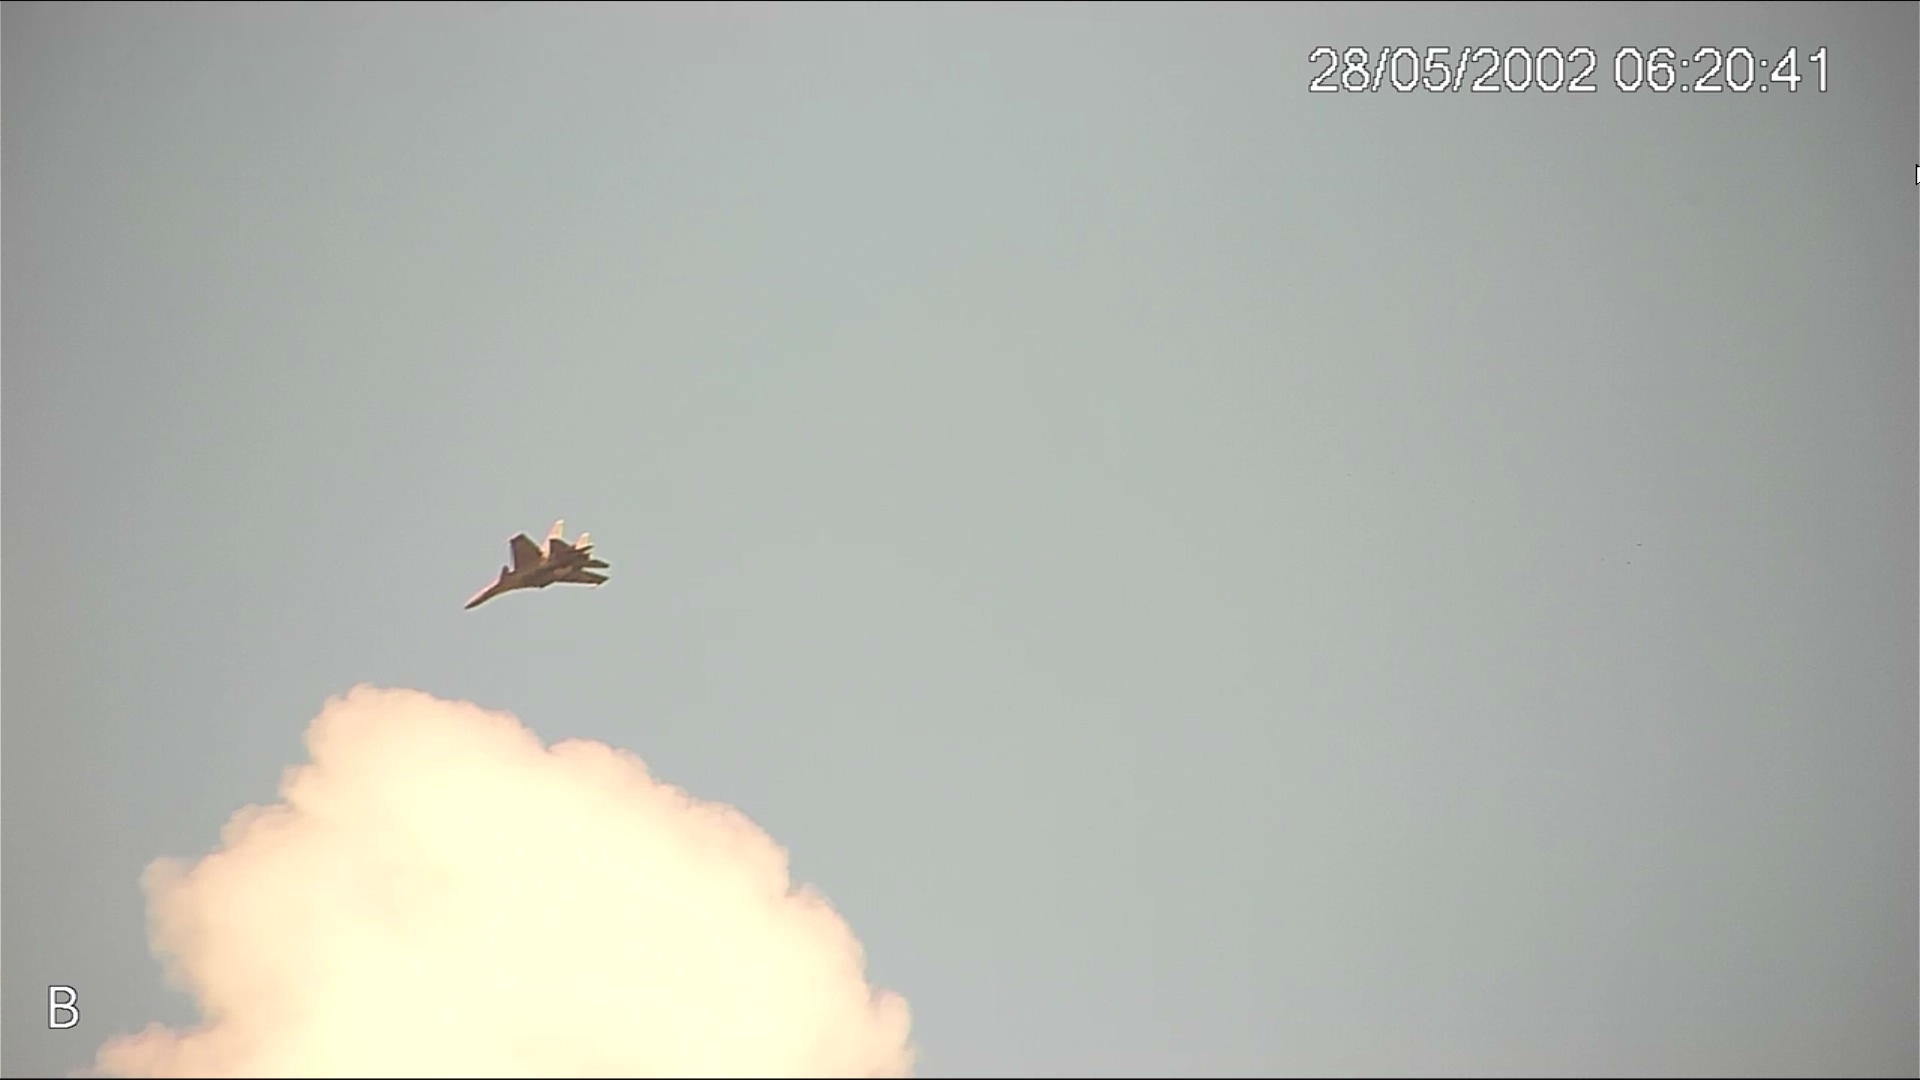SU_30: (460, 518, 611, 612)
